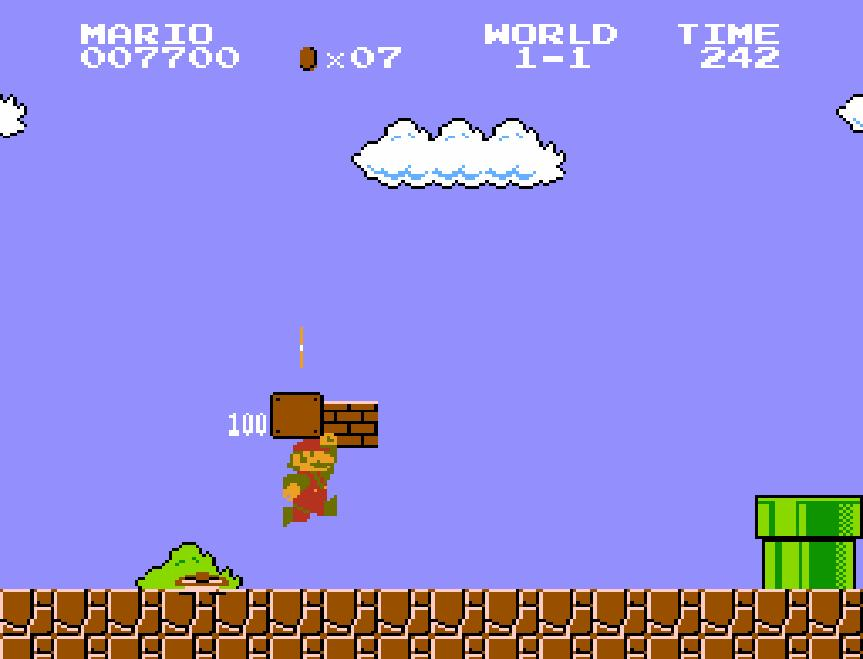big_mario: (280, 431, 338, 529)
